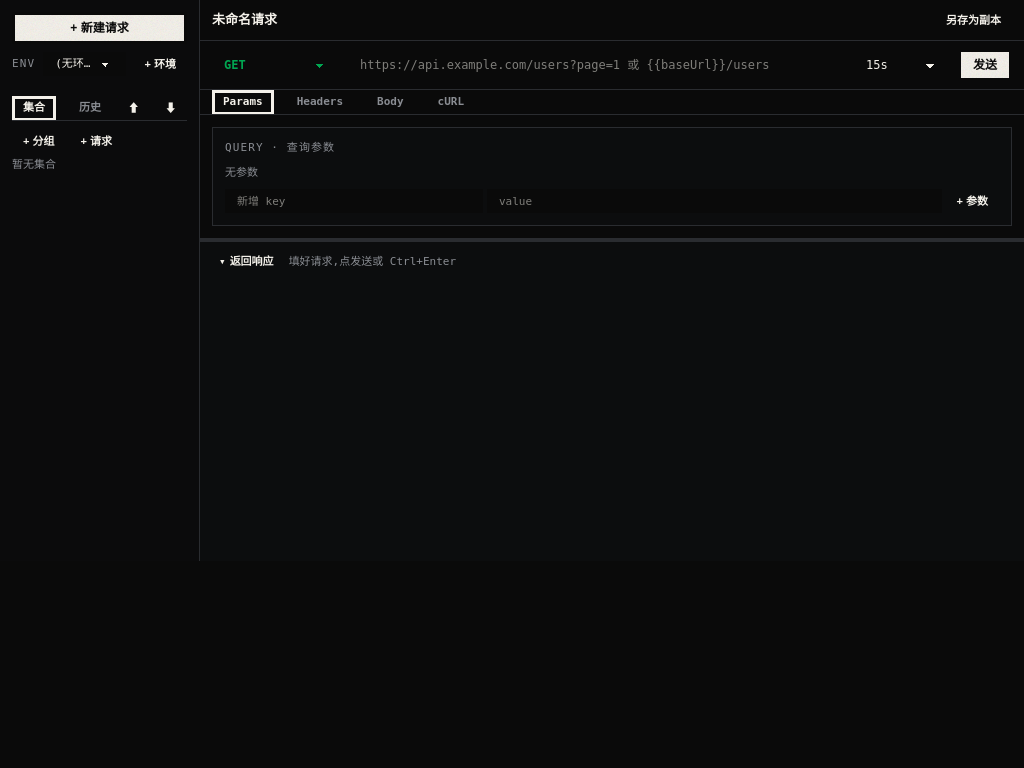
Test: 请求区页签 › 切到 Headers:只渲染 headers 内容
The image size is (1024, 768).
Click the tab with test id "request-tab-headers".
click(320, 102)  # box [286,90,354,114]
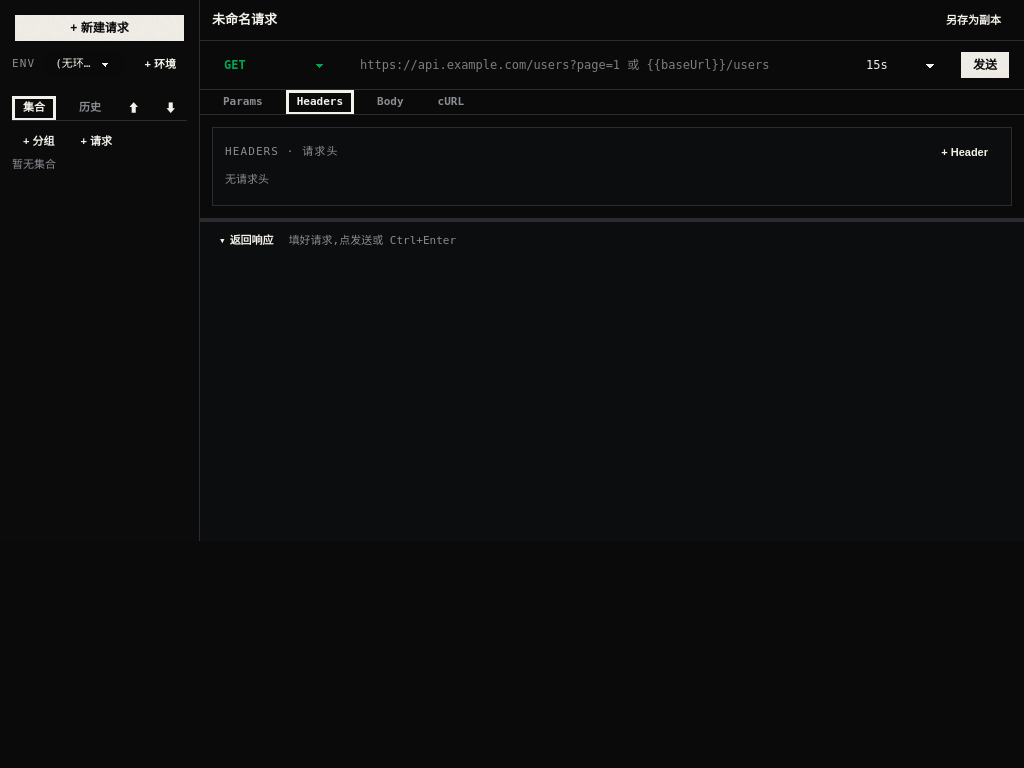
Expected: the field with placeholder "新增 key" is not shown
Expected: the text "HEADERS · 请求头" is shown, [225,144,338,160]
